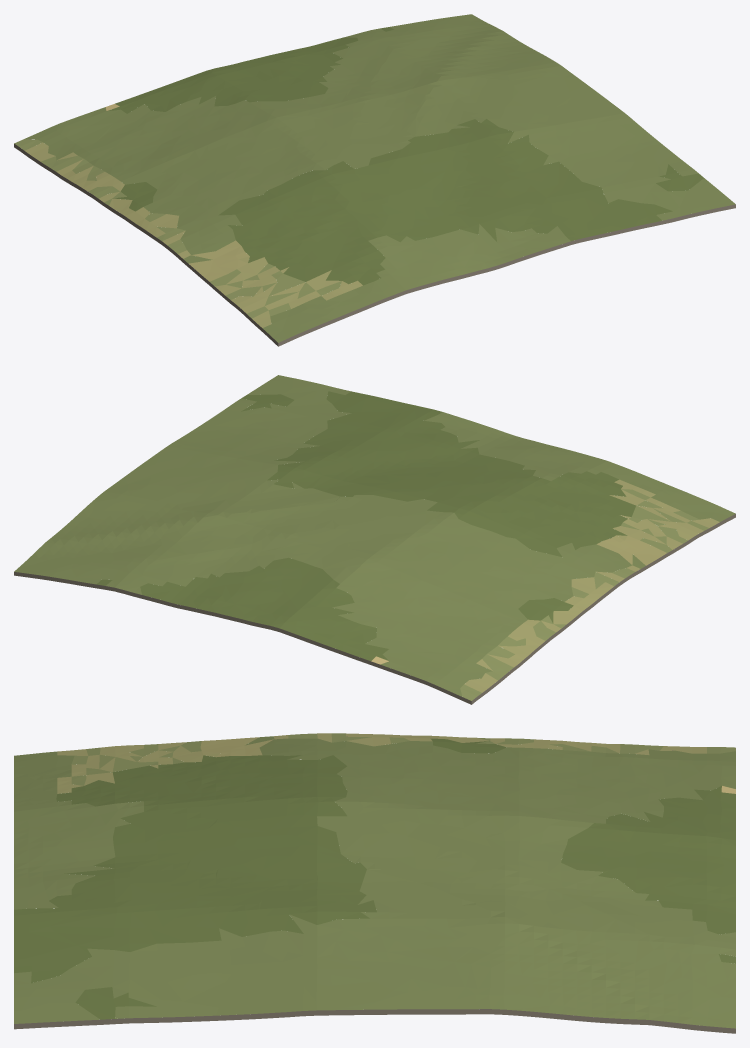
The model's file is parca_+1_-6-uzak.glb.
3 renders of one model, top to bottom at view 1: azimuth 30°, elevation 25°; view 2: azimuth 150°, elevation 25°; view 3: azimuth 270°, elevation 25°, orthographic. The views are drawn at different scales.
Visible parts, largest first — view 1: parca_+1_-6_arazi_uzak; view 2: parca_+1_-6_arazi_uzak; view 3: parca_+1_-6_arazi_uzak.
Part boxes in pixels (<box>): parca_+1_-6_arazi_uzak: <box>14,14,735,346</box>; parca_+1_-6_arazi_uzak: <box>14,375,735,704</box>; parca_+1_-6_arazi_uzak: <box>14,733,735,1033</box>.
Bounding box in the file's own units: 1000 × 107 × 1000.
